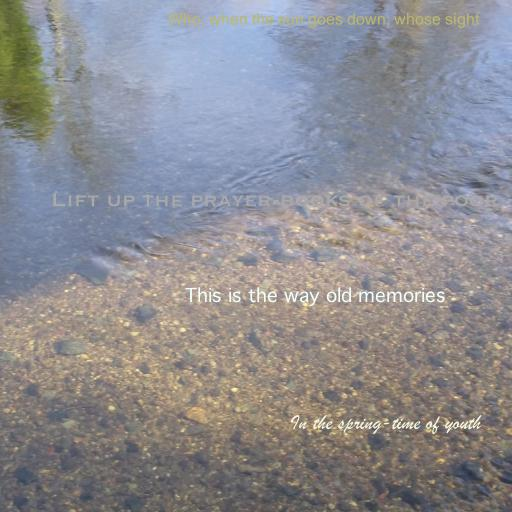Arial: (167, 13, 479, 28)
Brush Script MT: (289, 414, 481, 435)
Copperplate: (51, 193, 499, 207)
Geneva: (184, 287, 446, 306)
